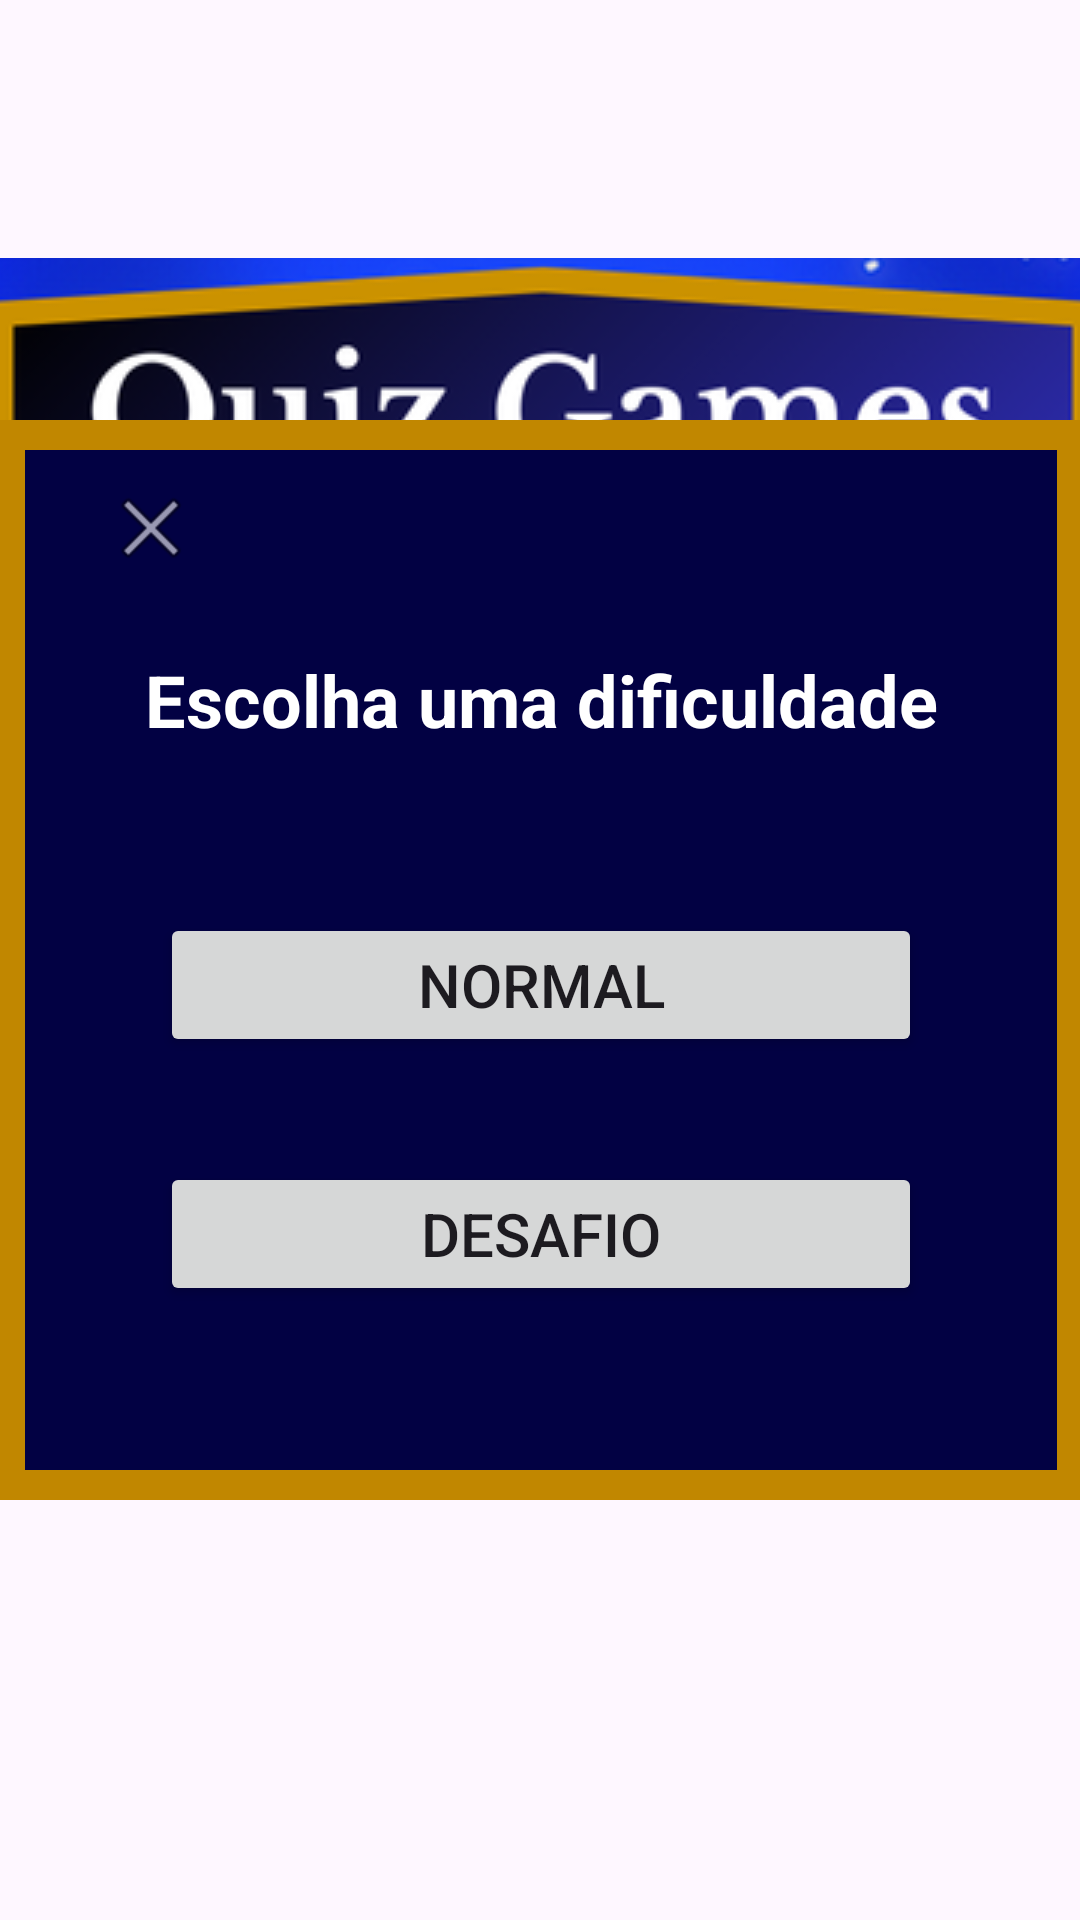

Icons on this 1080*1920 Android screen, each with its box as [x1,y1,x2,y2]:
close clear cancel: [123,500,179,556]
